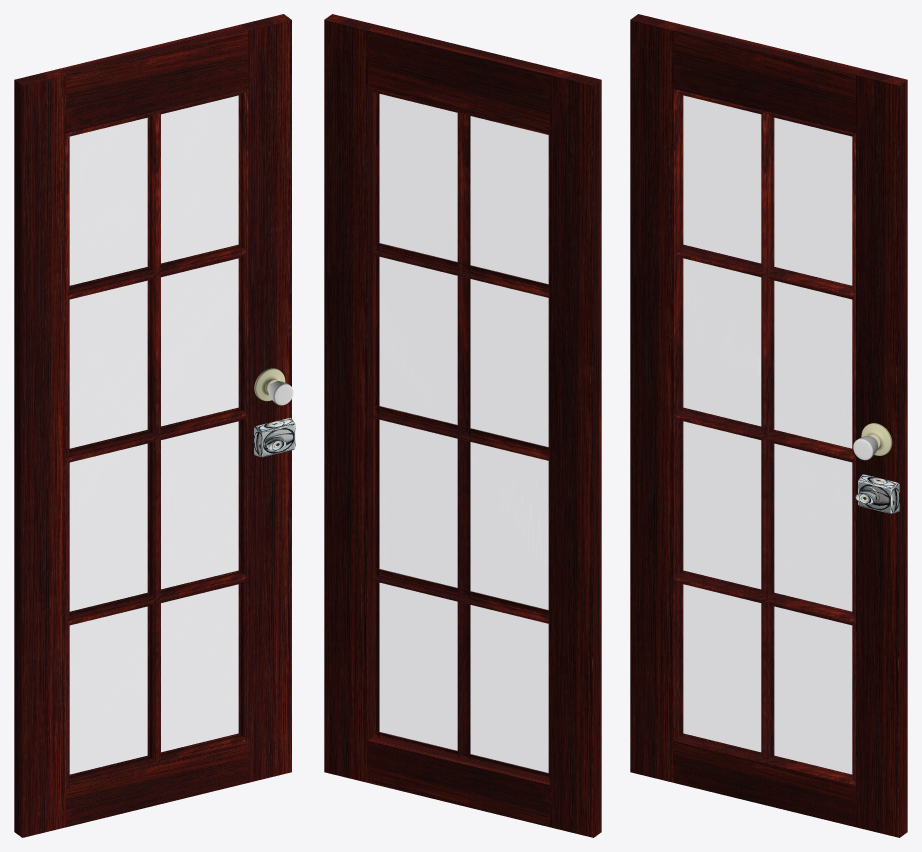
Rendered from sweethome3d-contributions-glass-door.glb.
3 renders of one model, left to right at view 1: azimuth 30°, elevation 25°; view 2: azimuth 150°, elevation 25°; view 3: azimuth 330°, elevation 25°, orthographic.
Parts seen in each view (by area): view 1: Door_GlassPanels_14, Door_GlassPanels_15, Door_GlassPanels_17, Door_GlassPanels_10, Door_GlassPanels_11, Door_GlassPanels_7, Door_GlassPanels_8, Door_GlassPanels_9, Door_GlassPanels_13, Door_GlassPanels_6, Door_GlassPanels_12, Door_GlassPanels_16 (+14 smaller); view 2: Door_GlassPanels_14, Door_GlassPanels_15, Door_GlassPanels_17, Door_GlassPanels_7, Door_GlassPanels_10, Door_GlassPanels_6, Door_GlassPanels_9, Door_GlassPanels_12, Door_GlassPanels_8, Door_GlassPanels_13, Door_GlassPanels_11, Door_GlassPanels_16 (+11 smaller); view 3: Door_GlassPanels_15, Door_GlassPanels_14, Door_GlassPanels_17, Door_GlassPanels_12, Door_GlassPanels_9, Door_GlassPanels_7, Door_GlassPanels_10, Door_GlassPanels_11, Door_GlassPanels_13, Door_GlassPanels_6, Door_GlassPanels_8, Door_GlassPanels_16 (+14 smaller).
Boxes of the visible parts, <box> form: Door_GlassPanels_14: <box>14,69,65,837</box>; Door_GlassPanels_15: <box>240,14,291,782</box>; Door_GlassPanels_17: <box>58,24,248,133</box>; Door_GlassPanels_10: <box>70,281,147,448</box>; Door_GlassPanels_11: <box>161,259,238,425</box>; Door_GlassPanels_7: <box>161,584,238,751</box>; Door_GlassPanels_8: <box>161,421,238,588</box>; Door_GlassPanels_9: <box>70,444,147,611</box>; Door_GlassPanels_13: <box>70,118,147,285</box>; Door_GlassPanels_6: <box>70,607,147,774</box>; Door_GlassPanels_12: <box>161,96,238,263</box>; Door_GlassPanels_16: <box>66,741,248,827</box>; Door_GlassPanels_14: <box>550,69,601,837</box>; Door_GlassPanels_15: <box>324,14,375,782</box>; Door_GlassPanels_17: <box>368,24,557,133</box>; Door_GlassPanels_7: <box>379,583,457,750</box>; Door_GlassPanels_10: <box>470,279,548,447</box>; Door_GlassPanels_6: <box>470,605,548,773</box>; Door_GlassPanels_9: <box>470,442,548,610</box>; Door_GlassPanels_12: <box>379,94,457,261</box>; Door_GlassPanels_8: <box>379,420,457,587</box>; Door_GlassPanels_13: <box>470,116,548,284</box>; Door_GlassPanels_11: <box>379,257,457,424</box>; Door_GlassPanels_16: <box>368,735,549,827</box>; Door_GlassPanels_15: <box>856,69,907,837</box>; Door_GlassPanels_14: <box>630,14,681,782</box>; Door_GlassPanels_17: <box>674,24,863,133</box>; Door_GlassPanels_12: <box>774,118,851,285</box>; Door_GlassPanels_9: <box>683,421,760,588</box>; Door_GlassPanels_7: <box>774,607,851,774</box>; Door_GlassPanels_10: <box>683,258,760,425</box>; Door_GlassPanels_11: <box>774,281,851,448</box>; Door_GlassPanels_13: <box>683,96,760,262</box>; Door_GlassPanels_6: <box>683,584,760,751</box>; Door_GlassPanels_8: <box>774,444,851,611</box>; Door_GlassPanels_16: <box>674,741,855,827</box>.
Size of the model in its own units: 77.1 by 206 by 11.2.
5 materials, 2 textured.
